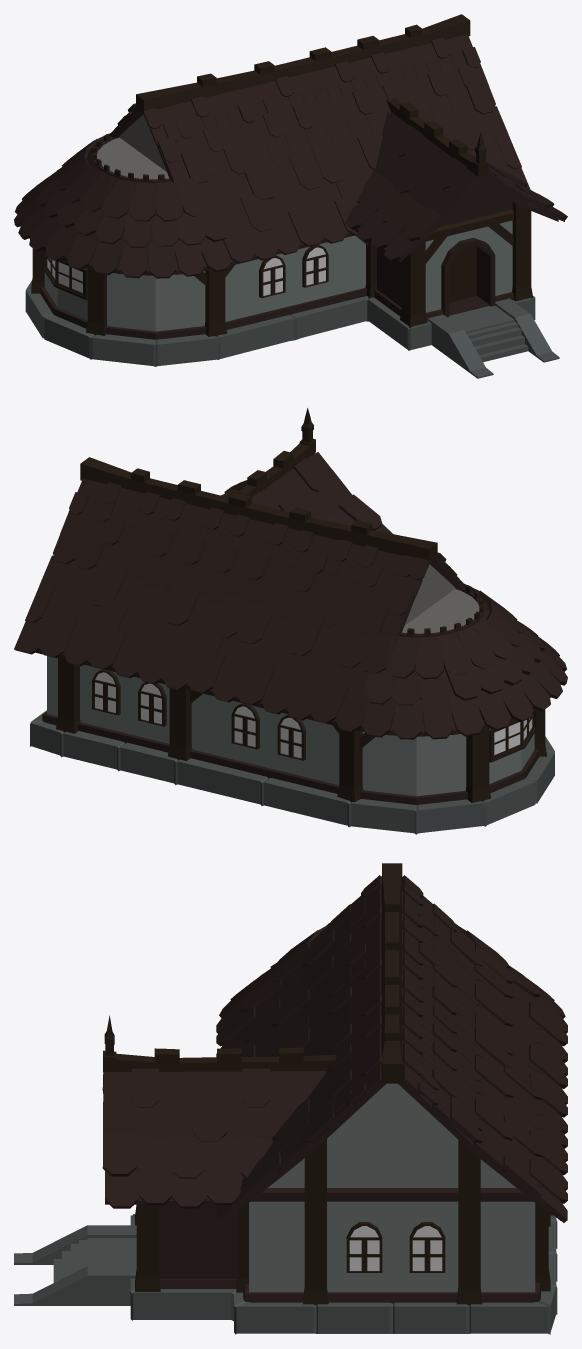
Rendered from SM_hous_03_B.gltf.
3 renders of one model, top to bottom at view 1: azimuth 30°, elevation 25°; view 2: azimuth 150°, elevation 25°; view 3: azimuth 270°, elevation 25°, orthographic. The views are drawn at different scales.
Parts seen in each view (by area): view 1: SM_hous_03_B; view 2: SM_hous_03_B; view 3: SM_hous_03_B.
Part boxes in pixels (box(x1,y1,x2,y2)): SM_hous_03_B: box(14, 14, 567, 378); SM_hous_03_B: box(14, 408, 567, 834); SM_hous_03_B: box(14, 863, 567, 1334).
Bounding box in the file's own units: 15.1 × 7.43 × 13.22.
